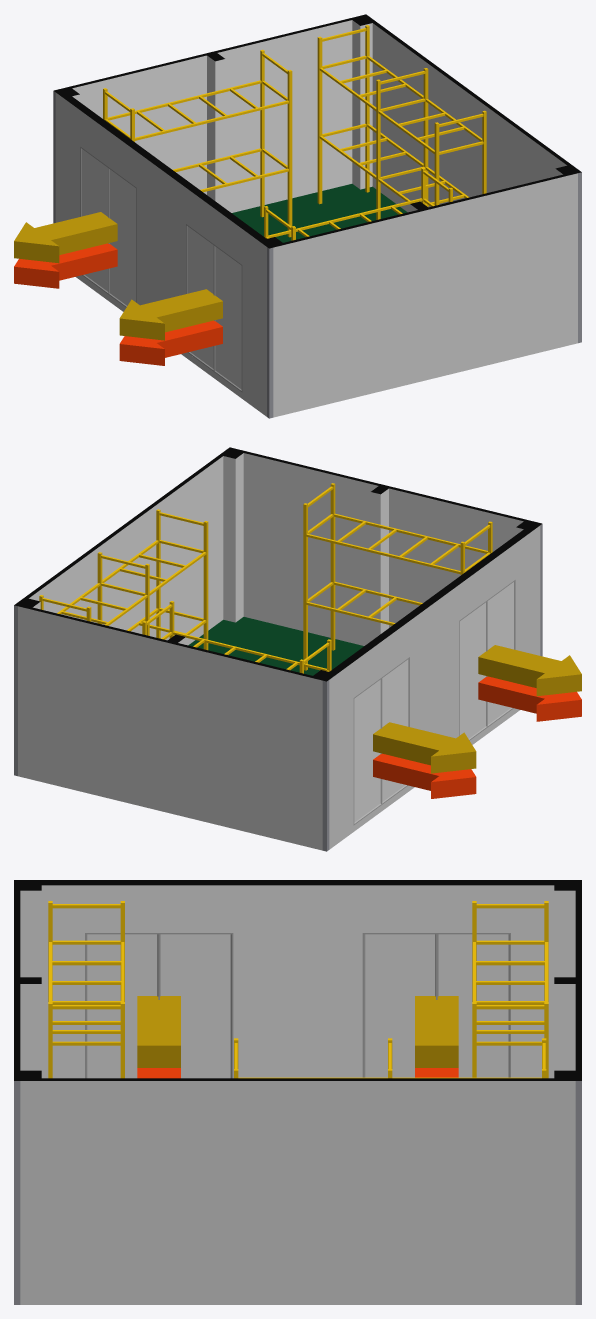
File: soubrain_T1-4-1F.glb
3 views of the same model, one above another, from view 1: azimuth 30°, elevation 25°; view 2: azimuth 150°, elevation 25°; view 3: azimuth 270°, elevation 25° (orthographic). The views are drawn at different scales.
Parts seen in each view (by area): view 1: T1-4-1F_Wall, T1-4-1F, T1-4-1F_Door, T1-4-1F_Floor, arrow_Y_2_T1-4-1F, arrow_Y_1_T1-4-1F, arrow_R_2_T1-4-1F, arrow_R_1_T1-4-1F; view 2: T1-4-1F_Wall, T1-4-1F, T1-4-1F_Door, T1-4-1F_Floor, arrow_Y_2_T1-4-1F, arrow_Y_1_T1-4-1F, arrow_R_1_T1-4-1F, arrow_R_2_T1-4-1F; view 3: T1-4-1F_Wall, T1-4-1F_Door, T1-4-1F, arrow_Y_2_T1-4-1F, arrow_Y_1_T1-4-1F.
Boxes of the visible parts, box(x1,y1,x2,y2) form: T1-4-1F_Wall: box(53, 14, 581, 418); T1-4-1F: box(103, 25, 486, 240); T1-4-1F_Door: box(80, 147, 242, 392); T1-4-1F_Floor: box(232, 184, 407, 242); arrow_Y_2_T1-4-1F: box(14, 212, 117, 263); arrow_Y_1_T1-4-1F: box(119, 289, 222, 340); arrow_R_2_T1-4-1F: box(14, 243, 117, 288); arrow_R_1_T1-4-1F: box(119, 320, 222, 365); T1-4-1F_Wall: box(14, 447, 542, 851); T1-4-1F: box(39, 483, 492, 673); T1-4-1F_Door: box(353, 580, 515, 825); T1-4-1F_Floor: box(188, 617, 363, 675); arrow_Y_2_T1-4-1F: box(373, 722, 476, 773); arrow_Y_1_T1-4-1F: box(478, 645, 581, 696); arrow_R_1_T1-4-1F: box(478, 676, 581, 721); arrow_R_2_T1-4-1F: box(373, 753, 476, 798); T1-4-1F_Wall: box(14, 880, 581, 1304); T1-4-1F_Door: box(85, 933, 510, 1078); T1-4-1F: box(48, 901, 548, 1078); arrow_Y_2_T1-4-1F: box(415, 996, 458, 1067); arrow_Y_1_T1-4-1F: box(137, 996, 180, 1067).
Size of the model in its own units: 10.03 by 4.05 by 9.2.
